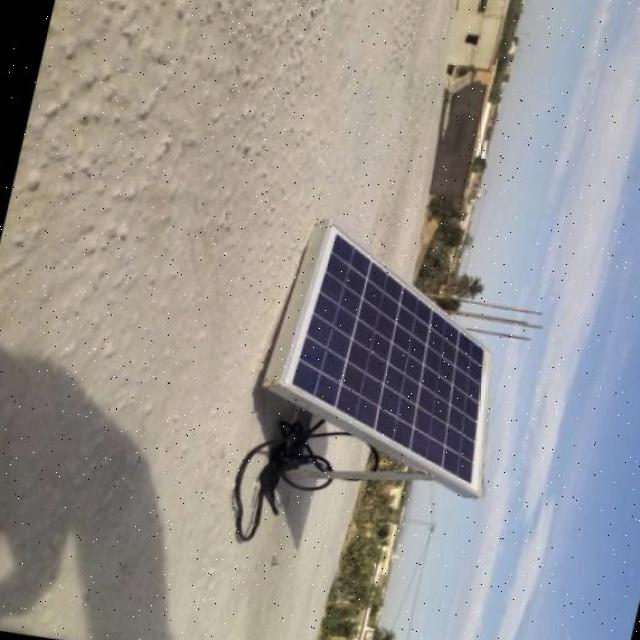Normal Solar Panel: (256, 217, 530, 502)
